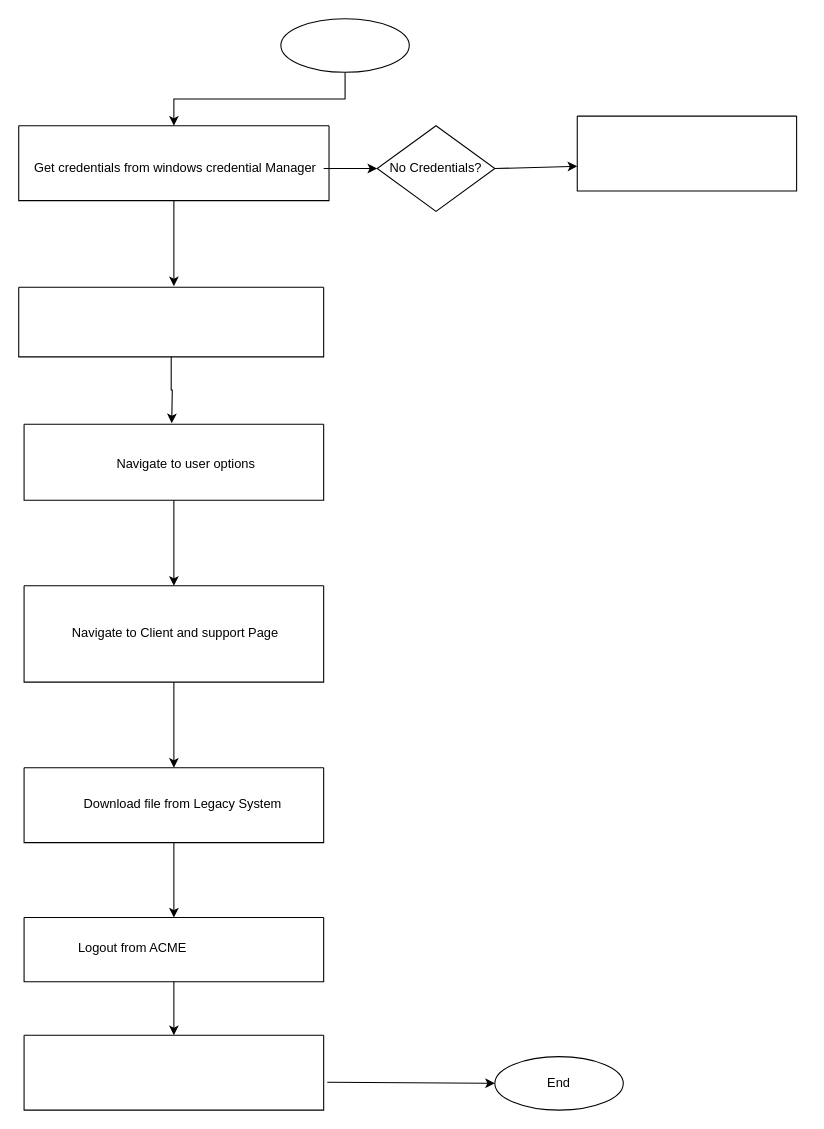
This 824x1129 diagram has some shape labels left out. The shapes that lost their labels are listed below. From the top down, each one's centre as x and y in pixels, then its label:
[344,45]: START
[686,153]: Prompt input of email and password
[171,321]: Log into ACME website
[173,1072]: Close Browser
